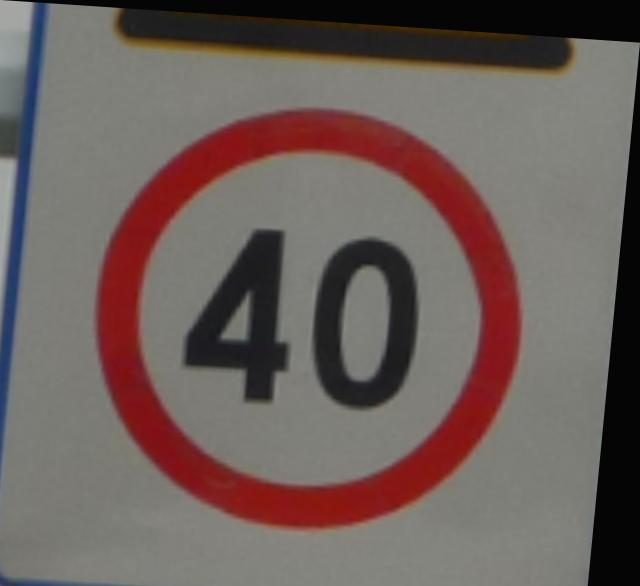limit40: (80, 85, 549, 545)
